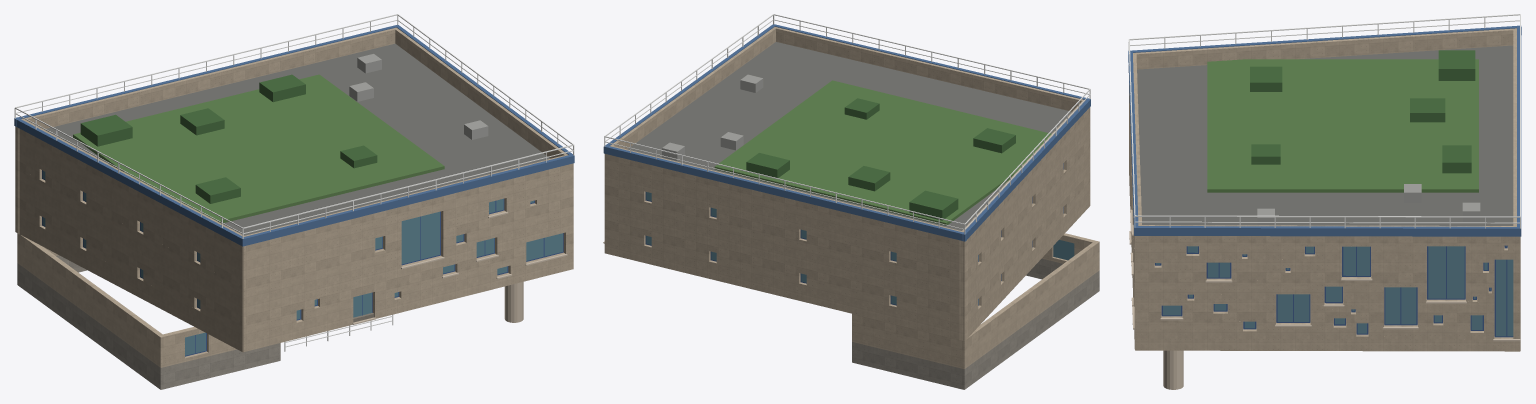
The picture shows the model from 3 angles, left to right: view 1: azimuth 30°, elevation 25°; view 2: azimuth 150°, elevation 25°; view 3: azimuth 270°, elevation 25°; orthographic projection. The views are drawn at different scales.
Visible parts, largest first — view 1: w451565824__concrete-wall, w451565824__roof-green, w451565824__roof, w451565824__edge-blue, w451565824__plinth-wall, w451565824__white-rail, w451565824__shrub, w451565824__glass, w451565824__ac, w451565824__frame, w451565824__column, w451565824__trim; view 2: w451565824__concrete-wall, w451565824__roof-green, w451565824__roof, w451565824__edge-blue, w451565824__plinth-wall, w451565824__white-rail, w451565824__shrub, w451565824__ac, w451565824__glass; view 3: w451565824__concrete-wall, w451565824__roof-green, w451565824__roof, w451565824__glass, w451565824__edge-blue, w451565824__shrub, w451565824__white-rail, w451565824__frame, w451565824__ac, w451565824__trim, w451565824__column, w451565824__under-concrete-wall.
Part boxes in pixels (bbox=[...]): w451565824__concrete-wall: bbox=[15, 27, 573, 367]; w451565824__roof-green: bbox=[73, 74, 444, 223]; w451565824__roof: bbox=[44, 43, 549, 235]; w451565824__edge-blue: bbox=[14, 25, 574, 246]; w451565824__plinth-wall: bbox=[17, 255, 280, 389]; w451565824__white-rail: bbox=[14, 14, 574, 351]; w451565824__shrub: bbox=[80, 74, 377, 203]; w451565824__glass: bbox=[42, 170, 562, 355]; w451565824__ac: bbox=[349, 54, 488, 139]; w451565824__frame: bbox=[42, 170, 563, 356]; w451565824__column: bbox=[504, 282, 523, 322]; w451565824__trim: bbox=[352, 212, 567, 324]; w451565824__concrete-wall: bbox=[604, 27, 1099, 368]; w451565824__roof-green: bbox=[714, 80, 1051, 225]; w451565824__roof: bbox=[627, 42, 1071, 230]; w451565824__edge-blue: bbox=[603, 24, 1090, 241]; w451565824__plinth-wall: bbox=[852, 258, 1099, 389]; w451565824__white-rail: bbox=[604, 14, 1090, 234]; w451565824__shrub: bbox=[746, 98, 1015, 220]; w451565824__ac: bbox=[662, 74, 763, 160]; w451565824__glass: bbox=[646, 192, 1074, 304]; w451565824__concrete-wall: bbox=[1129, 28, 1520, 351]; w451565824__roof-green: bbox=[1207, 59, 1478, 192]; w451565824__roof: bbox=[1137, 45, 1513, 225]; w451565824__glass: bbox=[1156, 246, 1513, 336]; w451565824__edge-blue: bbox=[1128, 25, 1521, 236]; w451565824__shrub: bbox=[1250, 50, 1475, 173]; w451565824__white-rail: bbox=[1128, 14, 1520, 228]; w451565824__frame: bbox=[1155, 245, 1513, 337]; w451565824__ac: bbox=[1257, 184, 1480, 225]; w451565824__trim: bbox=[1129, 209, 1520, 341]; w451565824__column: bbox=[1163, 350, 1183, 389]; w451565824__under-concrete-wall: bbox=[1154, 246, 1507, 335].
Bounding box in the file's own units: 32.82 × 14.44 × 26.79.
Materials: 15 (3 with a texture image).
